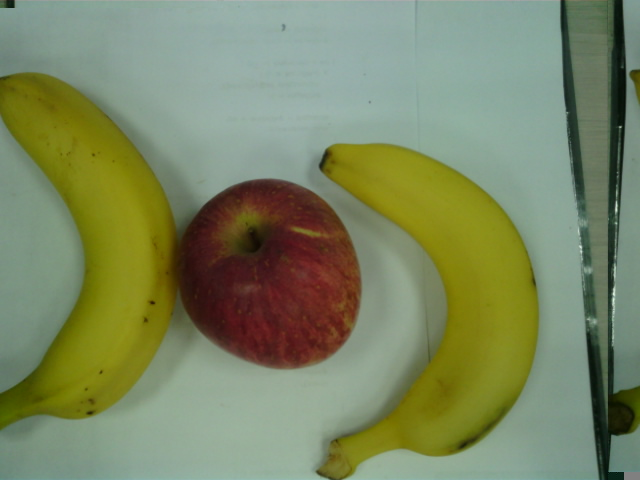normal_apple: (177, 179, 362, 369)
normal_banana: (322, 143, 536, 480), (1, 73, 173, 424)
